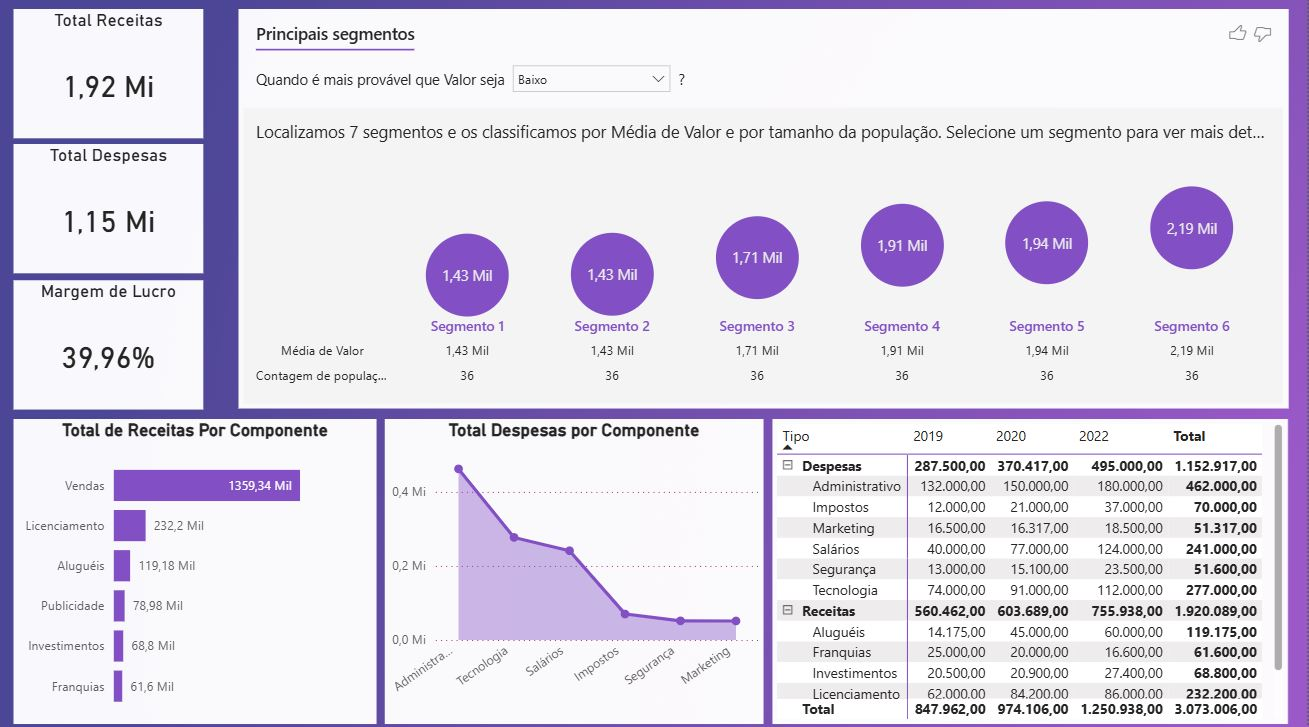

This screenshot's page, from the dashboard's own definition file:
{"tool":"powerbi","page":{"name":"Página 1","canvas":[1280,720],"ordinal":0},"visuals":[{"type":"clusteredBarChart","title":"Total de Receitas Por Componente","fields":{"Category":["DadosFinanceiros.Componente"],"Y":["DadosFinanceiros.Total Receitas"]},"box":[31.2,415.5,350.6,294.5],"z":0},{"type":"card","title":"Margem de Lucro","fields":{"Values":["DadosFinanceiros.Margem de Lucro %"]},"box":[31.2,280.8,183.4,124.8],"z":1000},{"type":"card","title":"Total Receitas","fields":{"Values":["DadosFinanceiros.Total Receitas"]},"box":[31.2,18.7,183.4,124.8],"z":2000},{"type":"card","title":"Total Despesas","fields":{"Values":["DadosFinanceiros.Total Despesas"]},"box":[31.2,149.7,183.4,124.8],"z":3000},{"type":"lineChart","fields":{"Y":["DadosFinanceiros.Total Despesas"],"Category":["DadosFinanceiros.Componente"]},"box":[389.3,415.5,365.6,294.5],"z":4000},{"type":"pivotTable","fields":{"Rows":["DadosFinanceiros.Tipo","DadosFinanceiros.Componente"],"Columns":["DadosFinanceiros.Data.Variation.Hierarquia de datas.Ano"],"Values":["Sum(DadosFinanceiros.Valor)"]},"box":[763.7,415.5,497.9,294.5],"z":5000},{"type":"keyDriversVisual","fields":{"Target":["DadosFinanceiros.Valor"],"ExplainBy":["DadosFinanceiros.Tipo","DadosFinanceiros.Componente"]},"box":[248.3,18.7,1013.2,385.6],"z":6000}]}

Visuals, with their boxes in screenshot pixels (x1, y1, x2, y2), scaled from the page's 1280x720 canvas onto the 1309x727 screenshot:
"Total de Receitas Por Componente" clusteredBarChart: 32,420,390,717
"Margem de Lucro" card: 32,284,219,410
"Total Receitas" card: 32,19,219,145
"Total Despesas" card: 32,151,219,277
lineChart - DadosFinanceiros.Total Despesas x DadosFinanceiros.Componente: 398,420,772,717
pivotTable - DadosFinanceiros.Tipo x DadosFinanceiros.Componente: 781,420,1290,717
keyDriversVisual - DadosFinanceiros.Valor x DadosFinanceiros.Tipo: 254,19,1290,408
